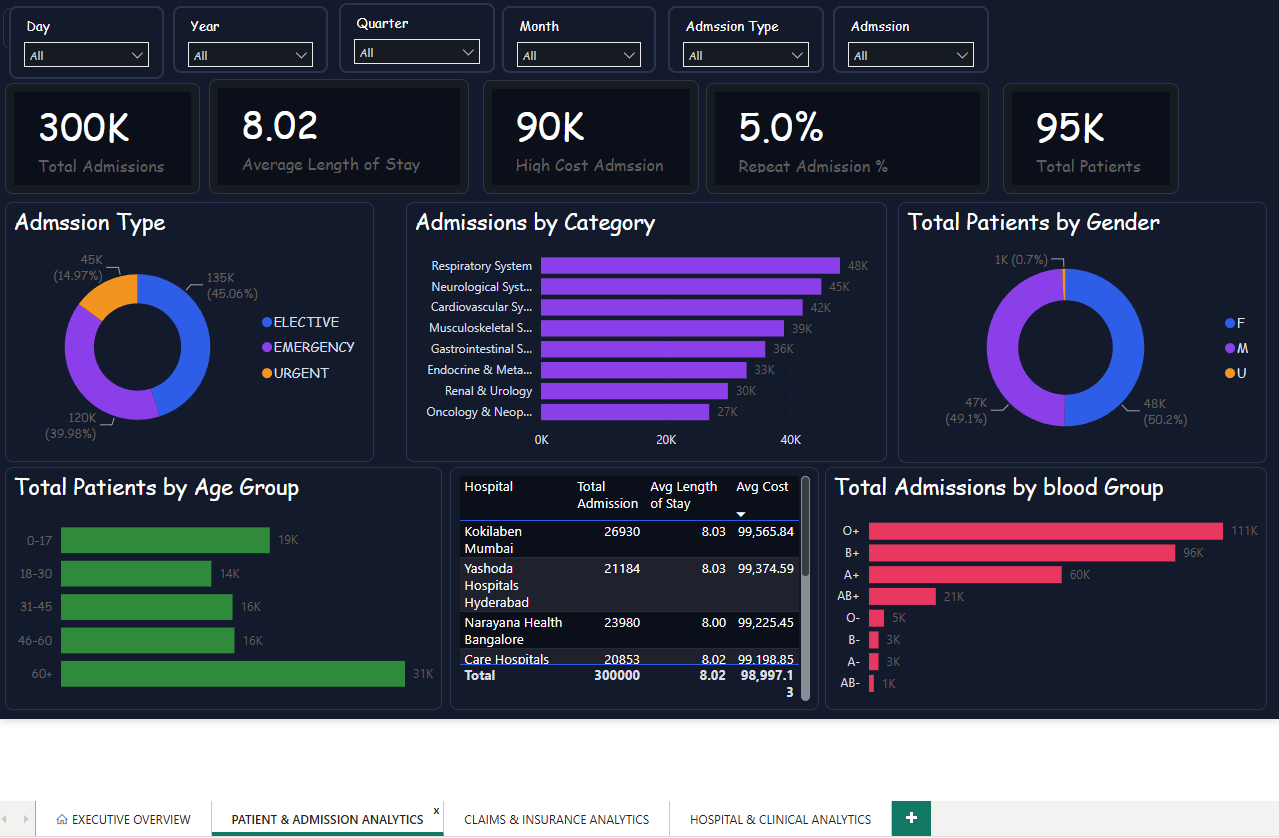

What the dashboard file says about the page in this screenshot:
{"tool":"powerbi","page":{"name":"PATIENT & ADMISSION ANALYTICS","canvas":[1280,720],"ordinal":1},"visuals":[{"type":"slicer","fields":{"Values":["dim_date.quarter"]},"box":[339,4,156,70],"z":0},{"type":"slicer","fields":{"Values":["dim_date.year"]},"box":[173,7,155,67],"z":1000},{"type":"slicer","fields":{"Values":["fact_admissions.admission_type"]},"box":[668,7,156,67],"z":2000},{"type":"slicer","fields":{"Values":["dim_hospital.hospital_name"]},"box":[832.9,7.1,156.4,67.1],"z":3000},{"type":"cardVisual","fields":{"Data":["_All Measures.Total Admissions"]},"box":[5,83.8,195,111.2],"z":4000},{"type":"cardVisual","fields":{"Data":["_All Measures.Average Length of Stay"]},"box":[209.1,80,260,115.5],"z":5000},{"type":"cardVisual","fields":{"Data":["Max(Insurance Companies.Repeat Admission %)"]},"box":[706.4,83.6,282.7,111.8],"z":7000},{"type":"cardVisual","fields":{"Data":["Min(Insurance Companies.High Cost Admssion)"]},"box":[482.7,80.9,216.4,114.5],"z":8000},{"type":"donutChart","title":"Admssion Type","fields":{"Y":["_All Measures.Total Admissions"],"Category":["fact_admissions.admission_type"]},"box":[5,202.5,369,260],"z":9000},{"type":"barChart","title":"Total Admissions by blood Group","fields":{"Category":["dim_patient.blood_group"],"Y":["_All Measures.Total Admissions"]},"box":[825,468,442,243],"z":10000},{"type":"tableEx","fields":{"Values":["dim_hospital.hospital_name","_All Measures.Total Admissions","_All Measures.Average Length of Stay","Avg(fact_admissions.total_cost)"]},"box":[450,468,369,243],"z":11000},{"type":"actionButton","box":[2.6,9.1,100.4,40.4],"z":12000},{"type":"clusteredBarChart","fields":{"Y":["_All Measures.Total Patients"],"Category":["dim_patient.Age Group"]},"box":[5,467.5,436.7,243.3],"z":13000},{"type":"donutChart","title":"Total Patients by Gender","fields":{"Y":["_All Measures.Total Patients"],"Category":["dim_patient.gender"]},"box":[898,203,369,261],"z":14000},{"type":"slicer","fields":{"Values":["dim_date.Dday"]},"box":[9,7,155,73],"z":15000},{"type":"barChart","title":" Admissions by Category","fields":{"Category":["Admission Categories.Category"],"Y":["fact_admissions.Fake Admissions"]},"box":[406,203,480.7,259.8],"z":17000},{"type":"slicer","fields":{"Values":["dim_date.full_date.Variation.Date Hierarchy.Month"]},"box":[501.8,7.3,154.5,66.4],"z":17001},{"type":"cardVisual","fields":{"Data":["_All Measures.Total Patients"]},"box":[1002.7,83.6,176.4,110.9],"z":17002}]}

Visuals, with their boxes on the page's 1280x720 design canvas (x1, y1, x2, y2). These are canvas units, not pixel positions in the 1279x838 screenshot, which may show the page scaled, cropped or inside an application window:
slicer - dim_date.quarter: bbox=(339, 4, 495, 74)
slicer - dim_date.year: bbox=(173, 7, 328, 74)
slicer - fact_admissions.admission_type: bbox=(668, 7, 824, 74)
slicer - dim_hospital.hospital_name: bbox=(833, 7, 989, 74)
cardVisual - _All Measures.Total Admissions: bbox=(5, 84, 200, 195)
cardVisual - _All Measures.Average Length of Stay: bbox=(209, 80, 469, 196)
cardVisual - Max(Insurance Companies.Repeat Admission %): bbox=(706, 84, 989, 195)
cardVisual - Min(Insurance Companies.High Cost Admssion): bbox=(483, 81, 699, 195)
"Admssion Type" donutChart: bbox=(5, 202, 374, 462)
"Total Admissions by blood Group" barChart: bbox=(825, 468, 1267, 711)
tableEx - dim_hospital.hospital_name x _All Measures.Total Admissions: bbox=(450, 468, 819, 711)
actionButton: bbox=(3, 9, 103, 50)
clusteredBarChart - _All Measures.Total Patients x dim_patient.Age Group: bbox=(5, 468, 442, 711)
"Total Patients by Gender" donutChart: bbox=(898, 203, 1267, 464)
slicer - dim_date.Dday: bbox=(9, 7, 164, 80)
" Admissions by Category" barChart: bbox=(406, 203, 887, 463)
slicer - dim_date.full_date.Variation.Date Hierarchy.Month: bbox=(502, 7, 656, 74)
cardVisual - _All Measures.Total Patients: bbox=(1003, 84, 1179, 194)
